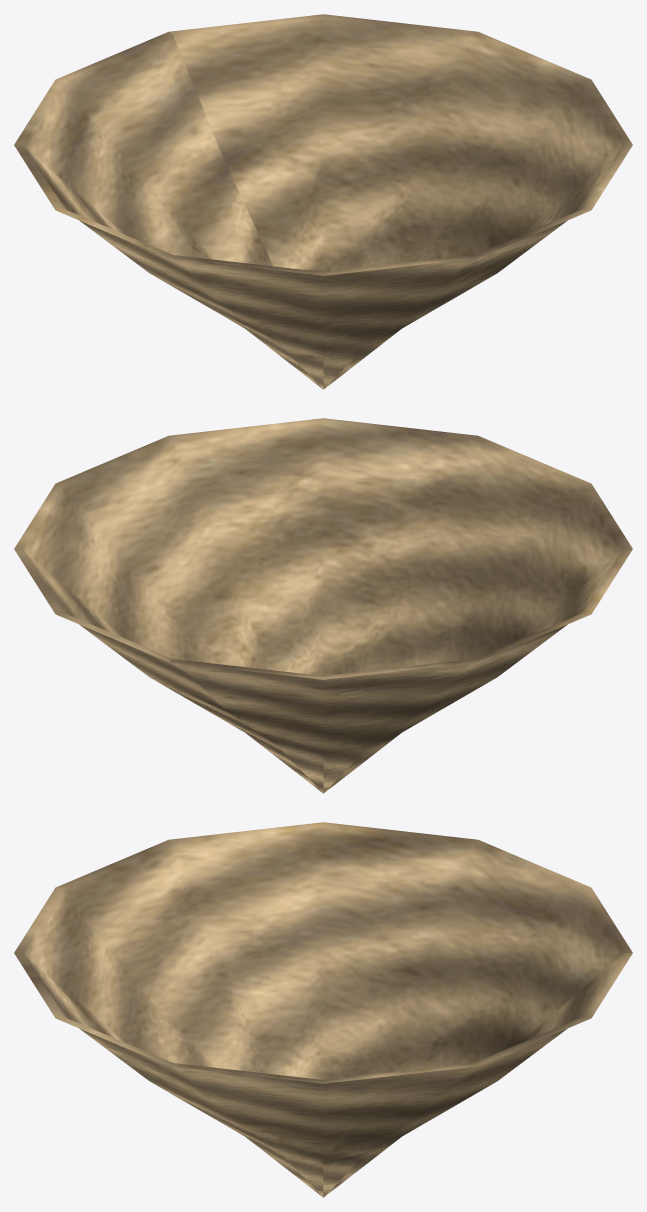
3 renders of one model, top to bottom at view 1: azimuth 30°, elevation 25°; view 2: azimuth 150°, elevation 25°; view 3: azimuth 270°, elevation 25°, orthographic.
Parts seen in each view (by area): view 1: SMDImport; view 2: SMDImport; view 3: SMDImport.
Boxes of the visible parts, left/top/right/bottom form: SMDImport: left=14, top=14, right=632, bottom=389; SMDImport: left=14, top=418, right=632, bottom=793; SMDImport: left=14, top=822, right=632, bottom=1197.
Bounding box in the file's own units: 385 × 168 × 385.
